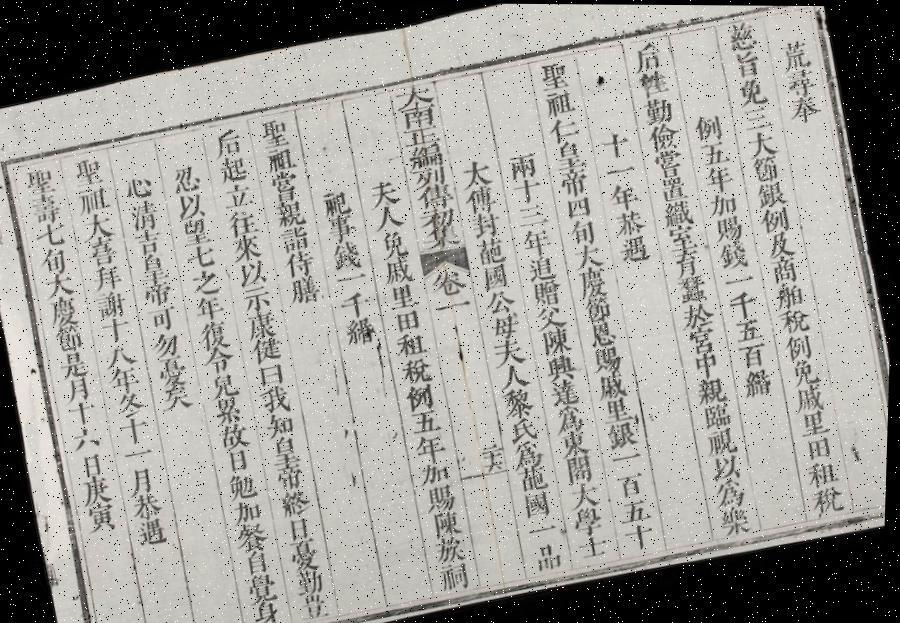c: (774, 33, 815, 71), (428, 263, 471, 299), (722, 14, 762, 52), (67, 152, 108, 189), (255, 113, 295, 150), (808, 480, 850, 515), (124, 196, 164, 232), (286, 536, 326, 572), (234, 518, 274, 554), (84, 498, 124, 534), (26, 190, 66, 226), (784, 89, 825, 124), (341, 311, 382, 346), (392, 80, 438, 111), (574, 262, 613, 298), (265, 167, 304, 203), (535, 56, 574, 92), (678, 296, 719, 330), (550, 136, 588, 172), (531, 538, 569, 574), (628, 36, 666, 72), (245, 568, 284, 603), (457, 154, 496, 189), (413, 429, 452, 464), (196, 316, 235, 351), (328, 237, 367, 272), (404, 140, 448, 171), (82, 233, 122, 267), (74, 182, 114, 216), (716, 502, 756, 536), (712, 474, 752, 508), (604, 416, 644, 450), (116, 412, 156, 446), (364, 174, 404, 208), (491, 332, 531, 366), (716, 236, 754, 271), (210, 123, 248, 158), (741, 363, 779, 398), (644, 118, 683, 152), (286, 271, 325, 305), (437, 558, 476, 592), (605, 176, 644, 210), (258, 380, 297, 414), (571, 502, 610, 536), (92, 286, 131, 320), (804, 455, 844, 488), (398, 353, 438, 386), (68, 421, 108, 454), (420, 220, 464, 250), (742, 125, 782, 158), (78, 208, 118, 241), (414, 180, 456, 211), (726, 284, 762, 320), (734, 72, 770, 108), (168, 159, 205, 194), (80, 471, 118, 505), (46, 292, 84, 326), (473, 232, 511, 266), (268, 431, 306, 465), (278, 484, 316, 518), (674, 270, 712, 304), (693, 371, 731, 405), (224, 204, 262, 238), (616, 230, 654, 264), (462, 182, 501, 215), (243, 307, 282, 340), (134, 514, 174, 546), (158, 380, 198, 412), (20, 163, 60, 195), (622, 518, 662, 550), (106, 362, 146, 394), (690, 106, 726, 141), (639, 92, 676, 126), (728, 45, 765, 79), (556, 164, 593, 198), (501, 384, 538, 418), (516, 460, 554, 493), (148, 327, 186, 360), (519, 223, 557, 256), (552, 401, 590, 434), (56, 347, 94, 380), (51, 320, 89, 353), (780, 64, 818, 97), (596, 125, 634, 158), (650, 146, 688, 179), (538, 323, 576, 356), (41, 268, 80, 300), (566, 478, 605, 510), (88, 260, 127, 292), (423, 480, 462, 512), (752, 176, 791, 208), (416, 203, 460, 231), (135, 250, 171, 284), (701, 160, 738, 193), (521, 486, 558, 519), (563, 451, 600, 484), (612, 204, 650, 236), (381, 254, 419, 286), (792, 380, 830, 412), (590, 342, 628, 374), (558, 426, 596, 458), (428, 506, 466, 538), (668, 246, 706, 278), (664, 221, 702, 253), (684, 322, 722, 354), (408, 404, 446, 436), (704, 424, 742, 456), (757, 202, 795, 234), (220, 179, 258, 211), (433, 532, 471, 564), (214, 152, 252, 184), (634, 66, 672, 98), (529, 275, 567, 307), (658, 196, 697, 227), (102, 339, 141, 370), (397, 102, 440, 130), (576, 530, 616, 560), (782, 327, 818, 360), (541, 86, 578, 118), (131, 488, 168, 520), (748, 150, 785, 182), (178, 215, 215, 247), (614, 466, 651, 498), (595, 367, 632, 399), (192, 290, 229, 322), (772, 277, 809, 309), (505, 148, 542, 180), (570, 239, 608, 270), (545, 112, 583, 143), (276, 222, 314, 253), (280, 247, 318, 278), (272, 197, 310, 228), (120, 170, 158, 201), (708, 450, 746, 481), (144, 302, 182, 333), (710, 211, 748, 242), (261, 144, 300, 174), (409, 162, 452, 189), (378, 226, 412, 260), (274, 459, 310, 491), (226, 468, 262, 500), (788, 354, 824, 386), (319, 185, 355, 217), (188, 264, 224, 296), (512, 436, 548, 468), (212, 394, 248, 426), (114, 386, 150, 418), (338, 286, 374, 318), (736, 338, 772, 370), (600, 392, 636, 424), (404, 379, 440, 411), (548, 375, 584, 407), (524, 250, 560, 282), (98, 312, 135, 343), (207, 369, 244, 400), (217, 419, 254, 450), (488, 309, 525, 340), (154, 353, 191, 384), (293, 565, 330, 596), (234, 257, 271, 288), (468, 208, 505, 239), (229, 231, 266, 262), (432, 292, 476, 318), (400, 122, 444, 148), (249, 334, 287, 364), (65, 397, 103, 427), (32, 218, 70, 248), (514, 198, 552, 228), (696, 136, 732, 167), (700, 399, 736, 430), (299, 589, 335, 620), (802, 429, 838, 460), (689, 347, 725, 378), (140, 277, 176, 308), (798, 405, 834, 436), (762, 227, 798, 258), (174, 189, 210, 220), (778, 303, 814, 334), (324, 211, 360, 242), (544, 350, 580, 381), (619, 494, 656, 524), (371, 202, 408, 232), (483, 286, 520, 316), (239, 282, 276, 312), (394, 328, 431, 358), (127, 462, 161, 494), (132, 226, 167, 257), (202, 344, 238, 374), (184, 240, 220, 270), (656, 172, 692, 202), (264, 408, 300, 438), (498, 360, 534, 390), (36, 244, 72, 274), (62, 372, 98, 402), (586, 317, 622, 347), (534, 301, 570, 331), (510, 174, 546, 204), (478, 260, 514, 290), (230, 495, 267, 524), (768, 252, 802, 283), (566, 214, 600, 245), (582, 292, 617, 322), (508, 412, 543, 442), (732, 314, 768, 343), (739, 101, 775, 130), (386, 280, 420, 310), (242, 546, 277, 575), (706, 188, 742, 216), (418, 458, 455, 485), (249, 598, 288, 623), (285, 512, 317, 542), (256, 359, 290, 387), (601, 156, 640, 180), (78, 448, 110, 477), (222, 444, 255, 472), (392, 305, 425, 332), (121, 441, 159, 464), (563, 192, 596, 218), (610, 446, 647, 468), (528, 518, 564, 540), (334, 266, 370, 288), (722, 268, 758, 290), (482, 440, 504, 453), (484, 449, 506, 461), (486, 458, 507, 470)
